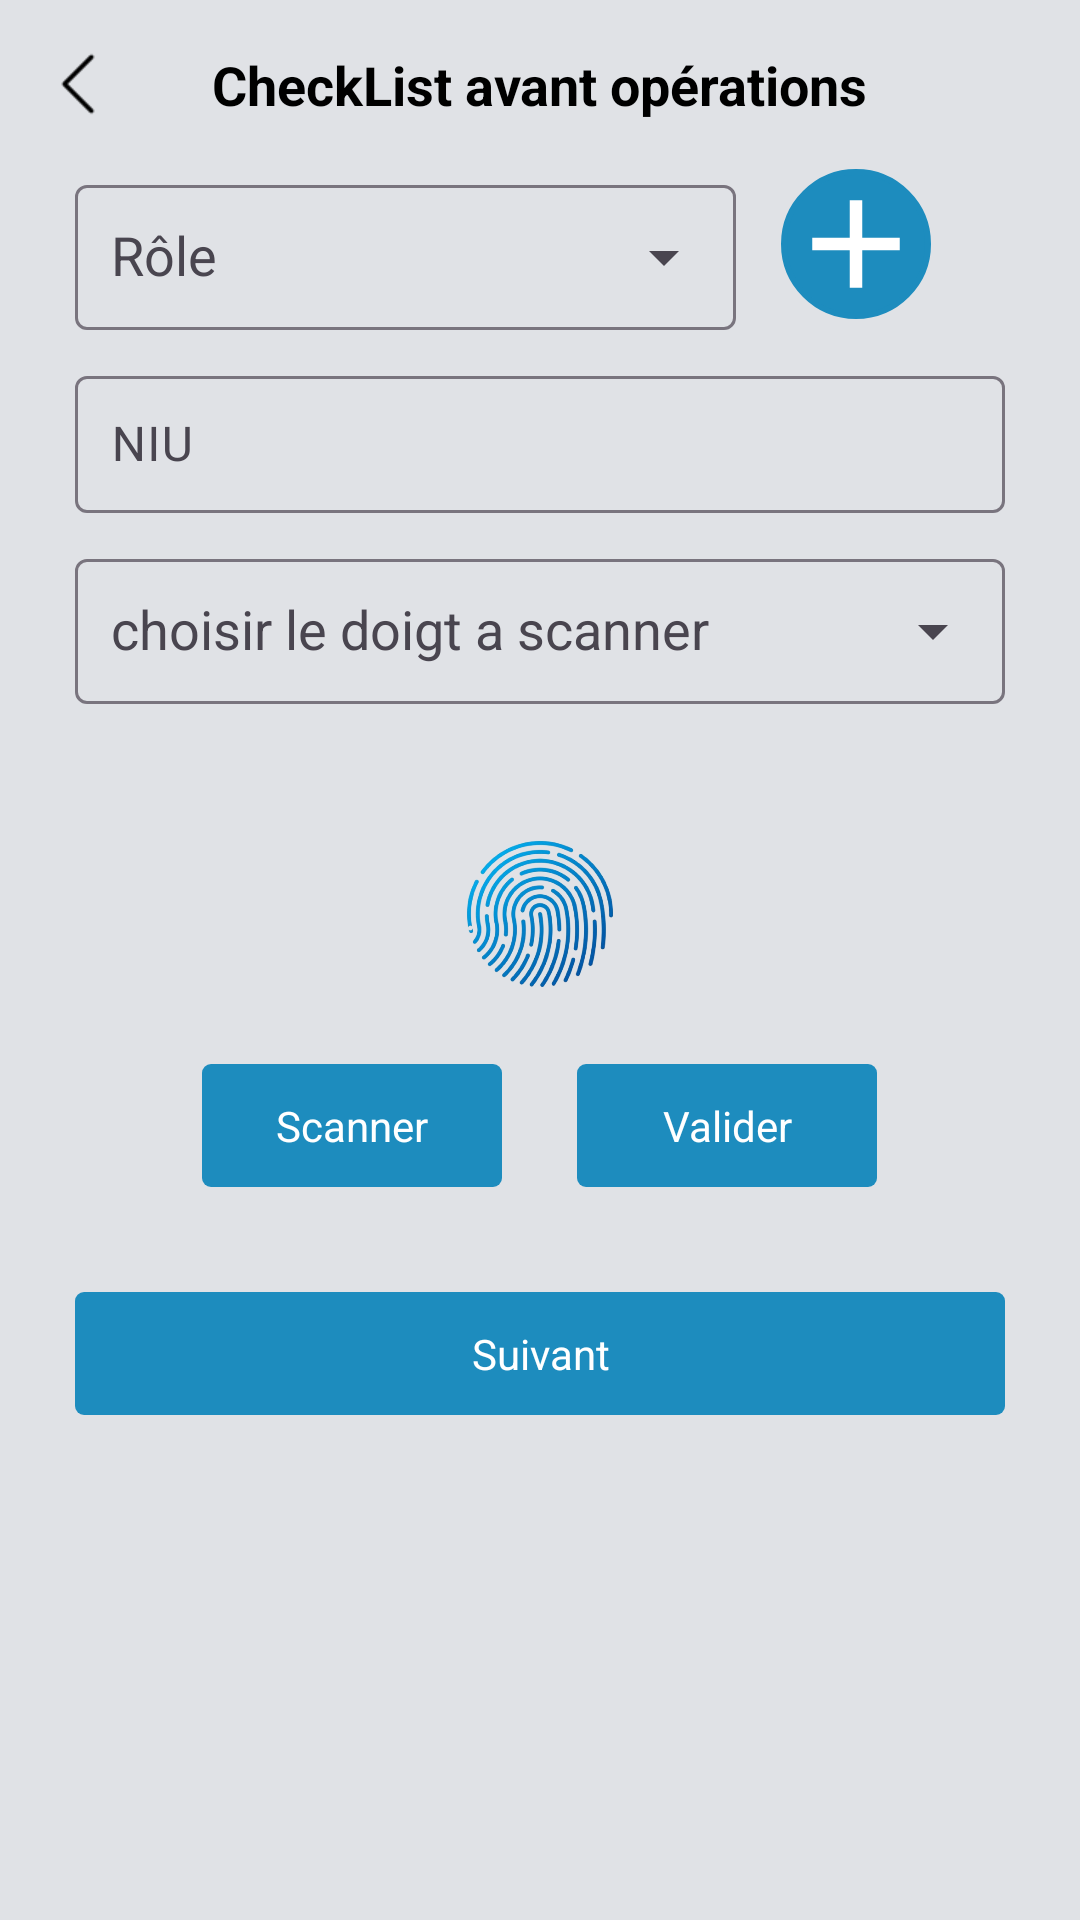

Icons on this 1080 × 1920 Android screen, each with the point to tap as (x,y):
add: (856,244)
back: (78,84)
